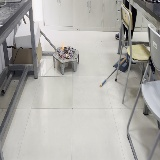fire: (61, 41, 67, 50), (66, 54, 68, 57)
